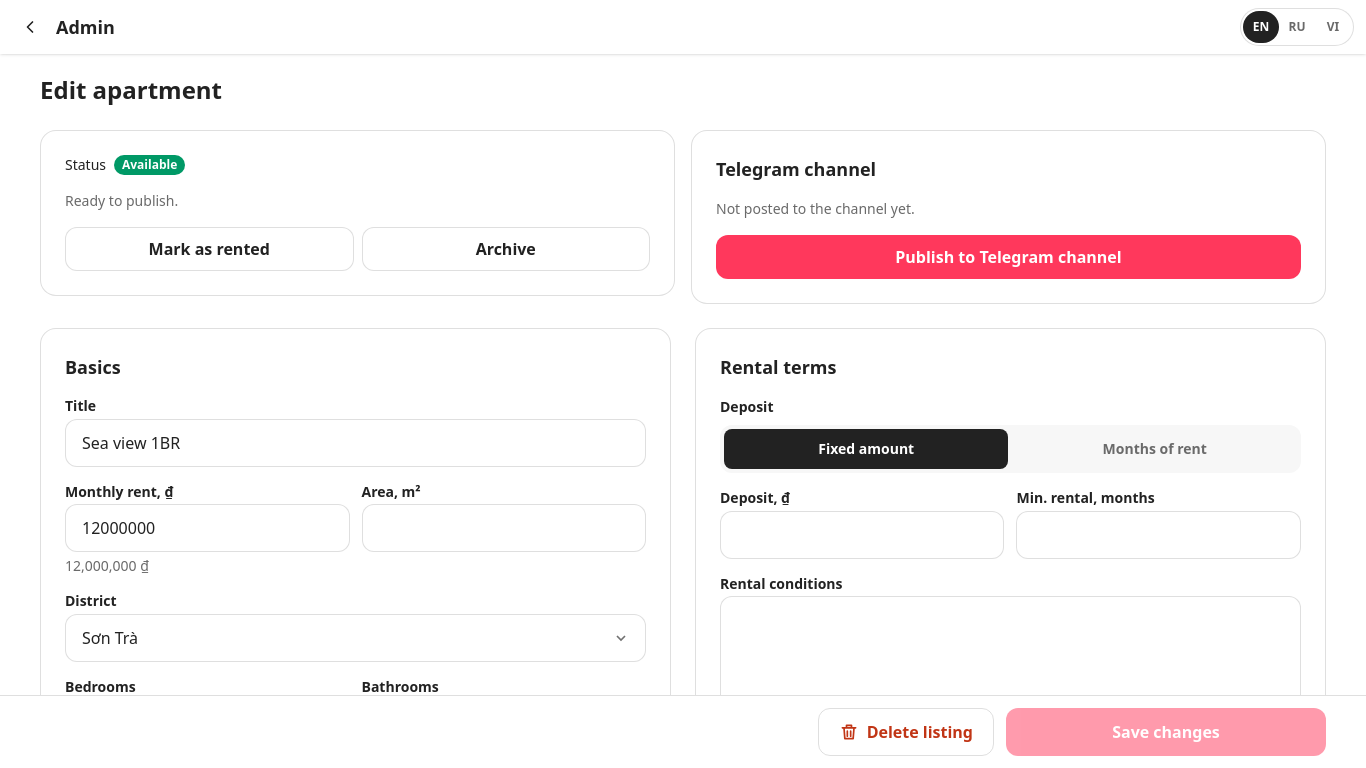
Test: Telegram channel publishing › never re-sends an unconfirmed post and lets the admin resolve it
Click the button "Publish to Telegram channel": (1008, 257) [716, 235, 1301, 279]
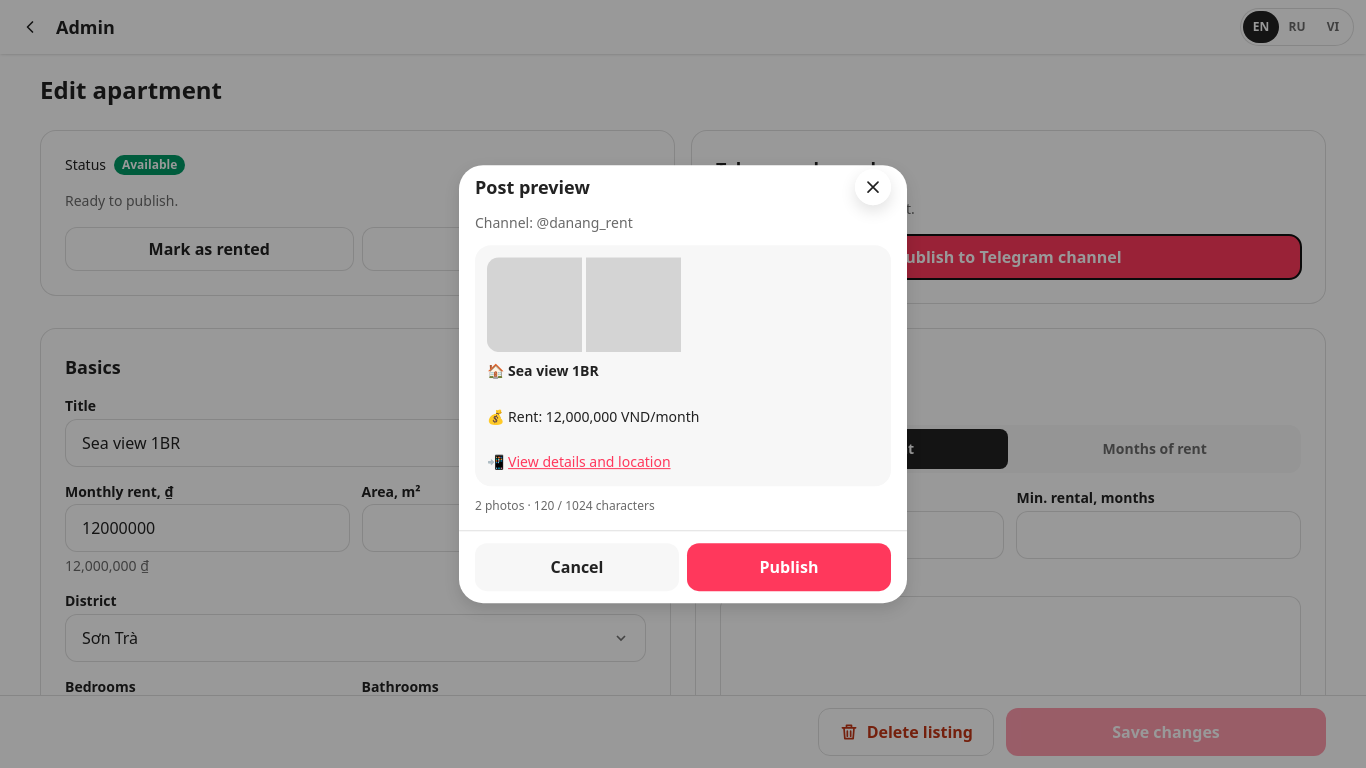
Click the button "Publish": (789, 567) [687, 543, 891, 591]
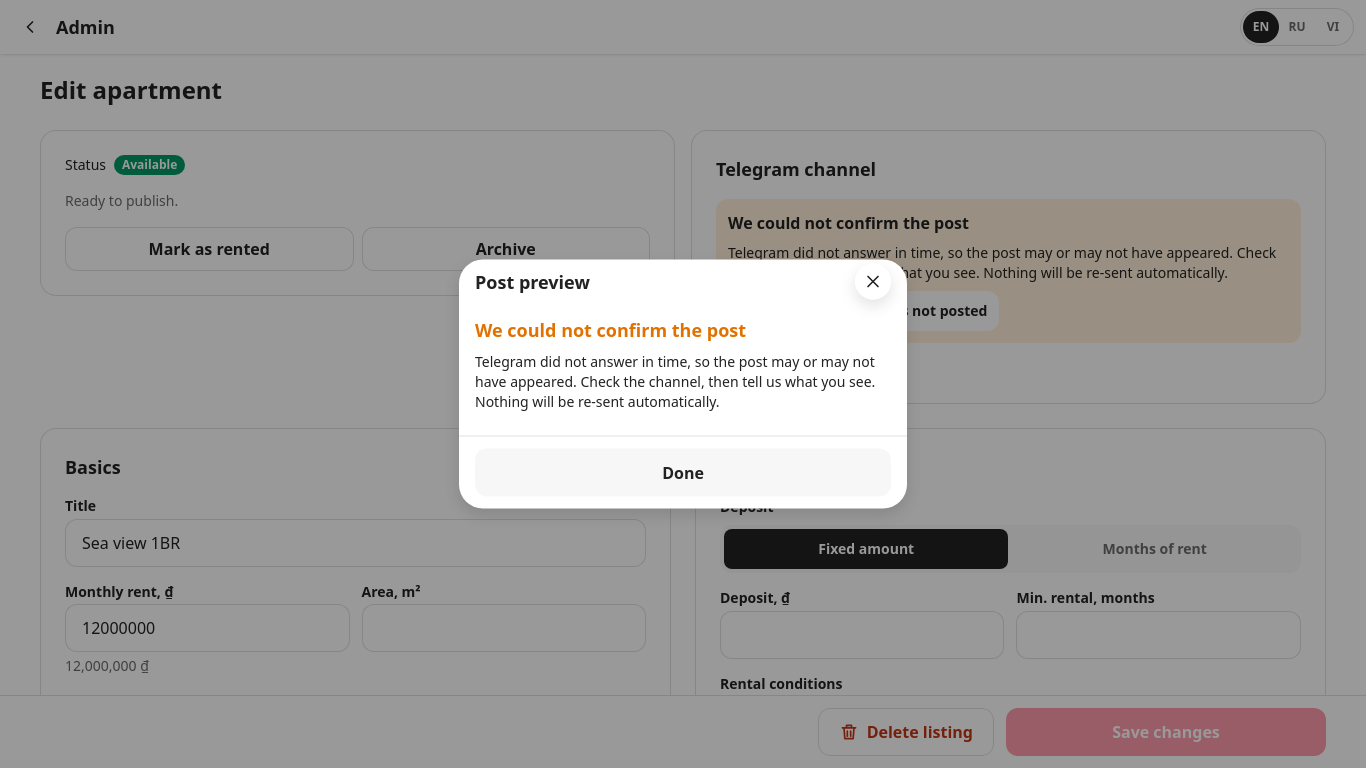
Now the text "We could not confirm the post" is shown, box [475, 318, 746, 342]
Click the button "Done": (683, 472) [475, 448, 891, 496]
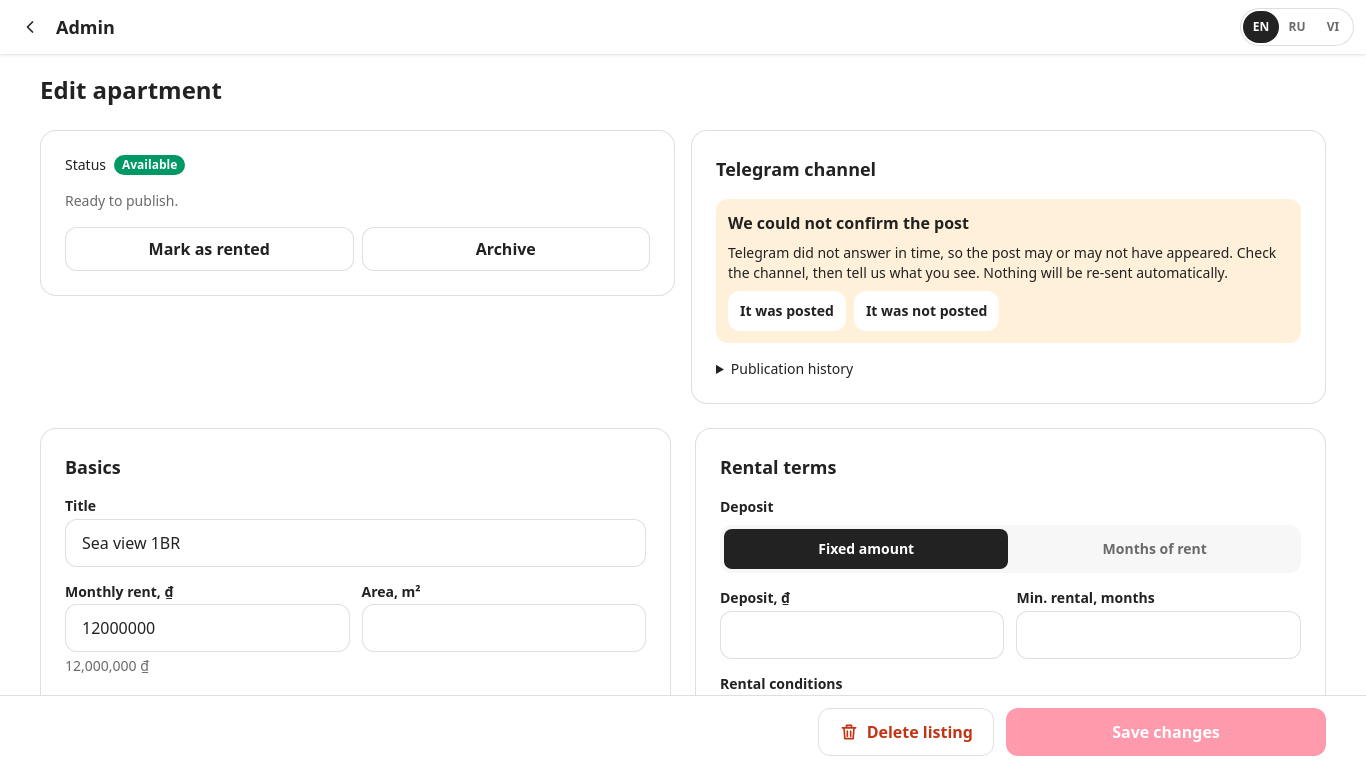
Expected: the button "Publish to Telegram channel" is not shown
Now the text "We could not confirm the post" is shown, box [728, 212, 969, 234]
Click the button "It was not posted": (927, 311) [854, 291, 999, 331]
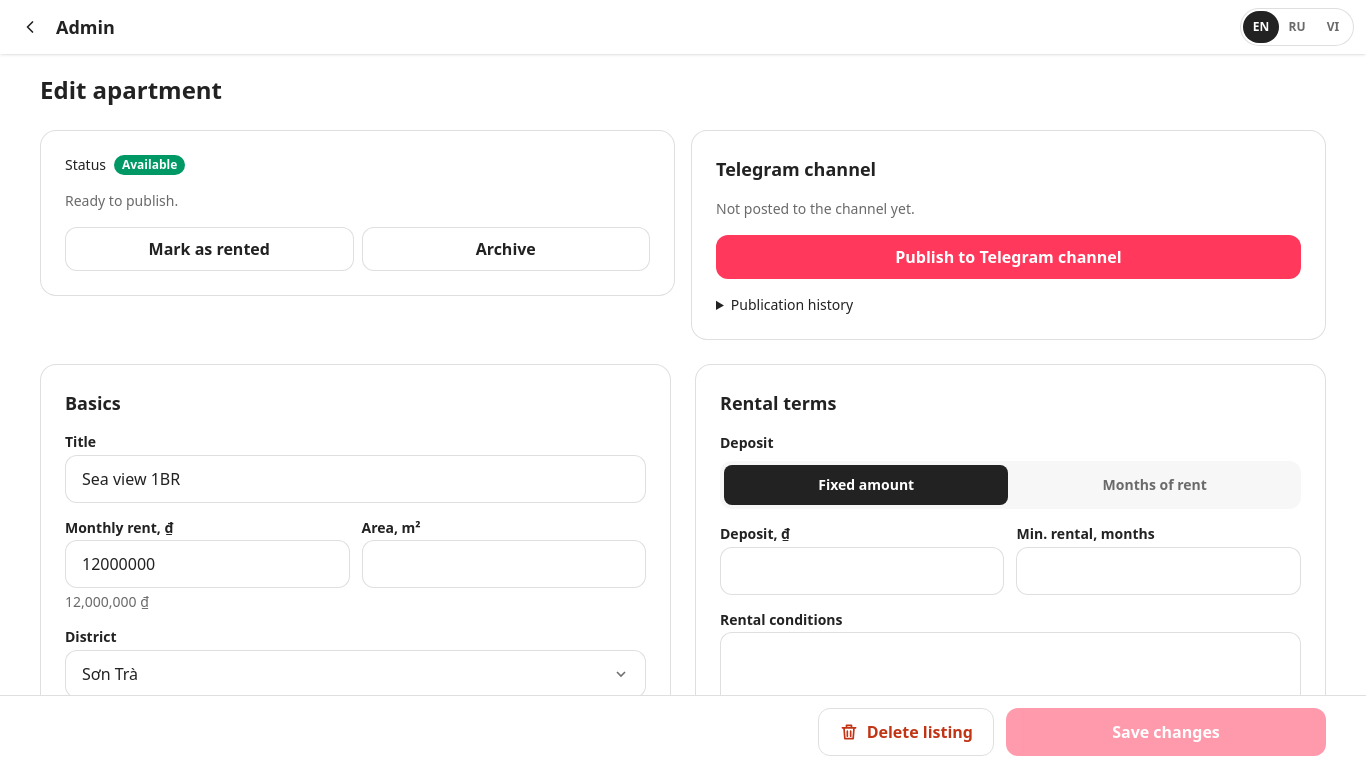
Now the button "Publish to Telegram channel" is enabled, box [716, 235, 1301, 279]
